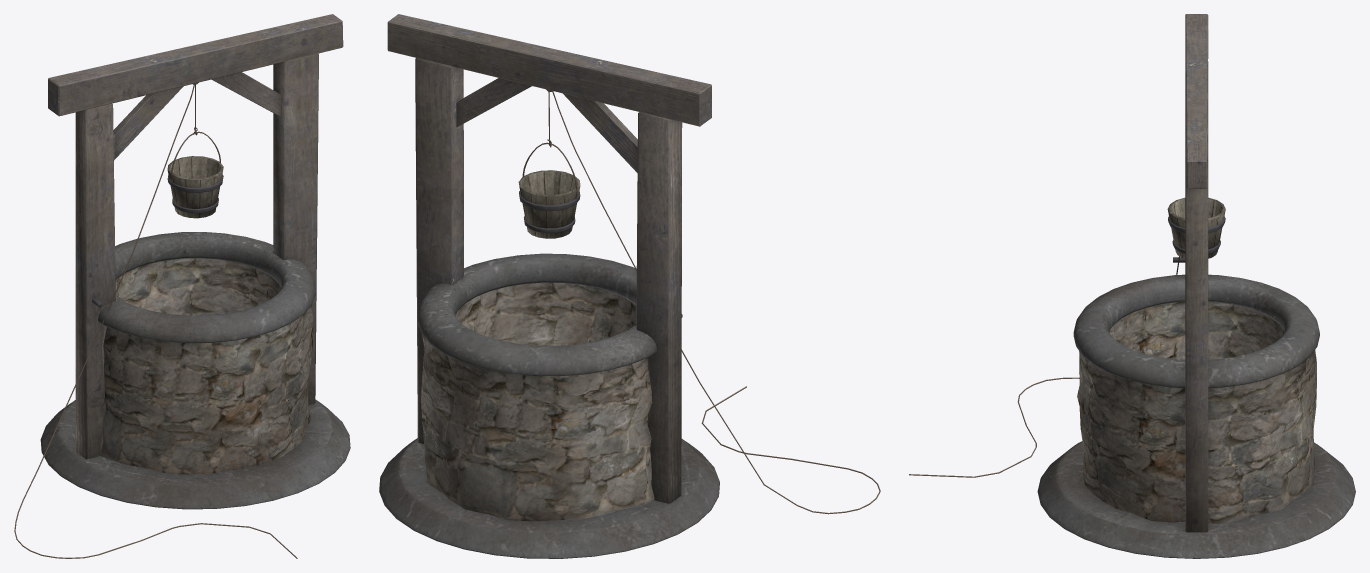
The model's file is well.glb.
3 renders of one model, left to right at view 1: azimuth 30°, elevation 25°; view 2: azimuth 150°, elevation 25°; view 3: azimuth 270°, elevation 25°, orthographic. The views are drawn at different scales.
Visible parts, largest first — view 1: well; view 2: well; view 3: well.
Boxes of the visible parts, left/top/right/bottom form: well: left=14, top=14, right=350, bottom=558; well: left=379, top=14, right=880, bottom=558; well: left=909, top=14, right=1355, bottom=558.
Bounding box in the file's own units: 2.71 × 2.75 × 2.72.
Materials: 1 (1 with a texture image).
